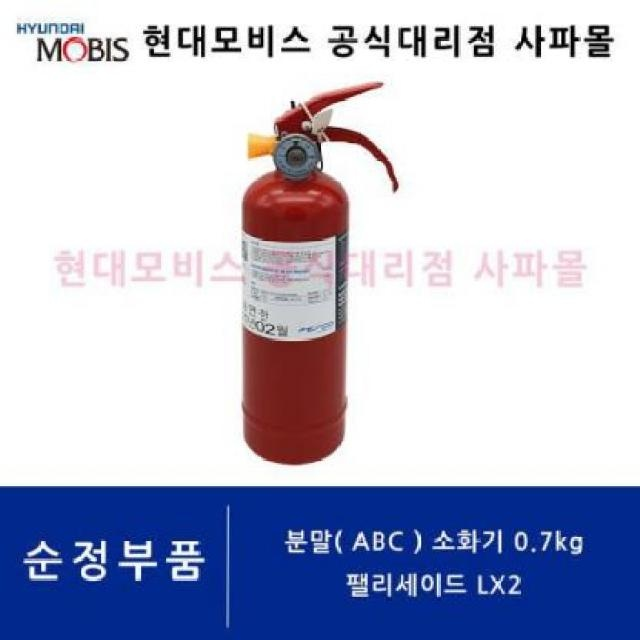fire extinguisher: (240, 81, 400, 467)
